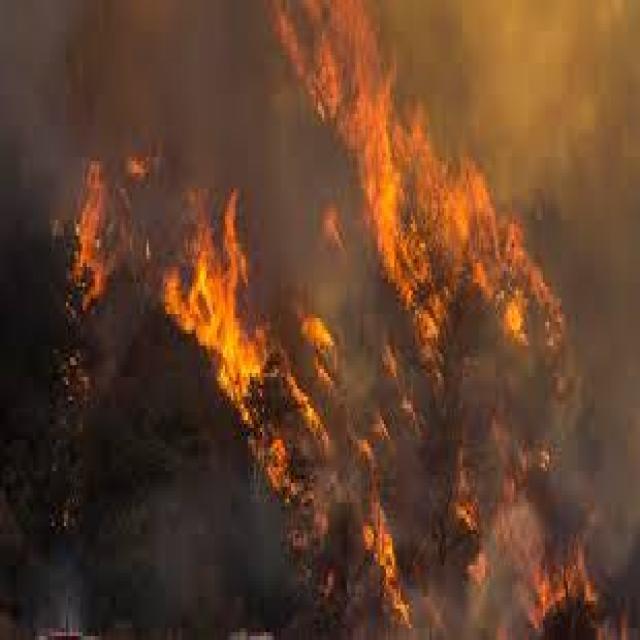Fire: (282, 0, 571, 358), (160, 169, 323, 498), (458, 460, 626, 640), (54, 145, 153, 348), (343, 442, 421, 632), (296, 298, 354, 386)
